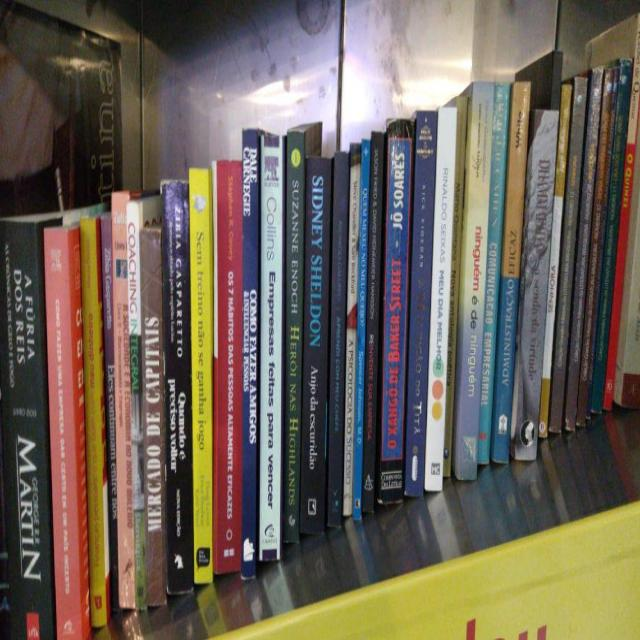book: (12, 228, 40, 630), (217, 170, 237, 562), (54, 248, 72, 630), (169, 203, 185, 582), (116, 210, 130, 600), (194, 190, 208, 568), (145, 238, 159, 603), (263, 150, 275, 562), (388, 123, 400, 506), (244, 153, 254, 570), (308, 167, 319, 526), (474, 98, 480, 480), (291, 144, 296, 537), (335, 161, 340, 533)
